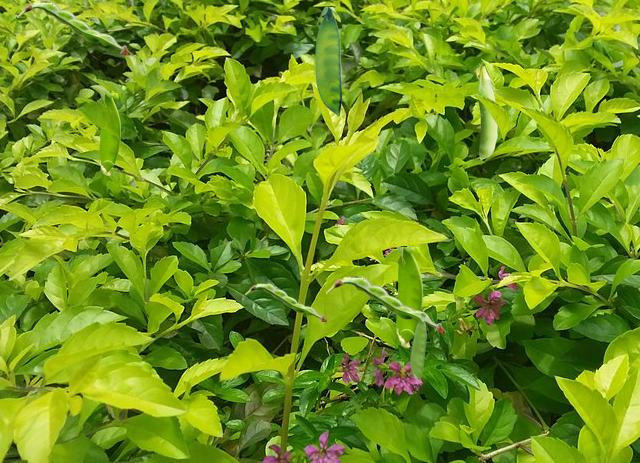pea: (326, 276, 445, 331), (17, 1, 130, 53), (245, 283, 326, 320), (315, 7, 340, 116), (396, 247, 421, 346), (474, 63, 496, 158), (99, 93, 119, 174), (410, 312, 425, 379)
